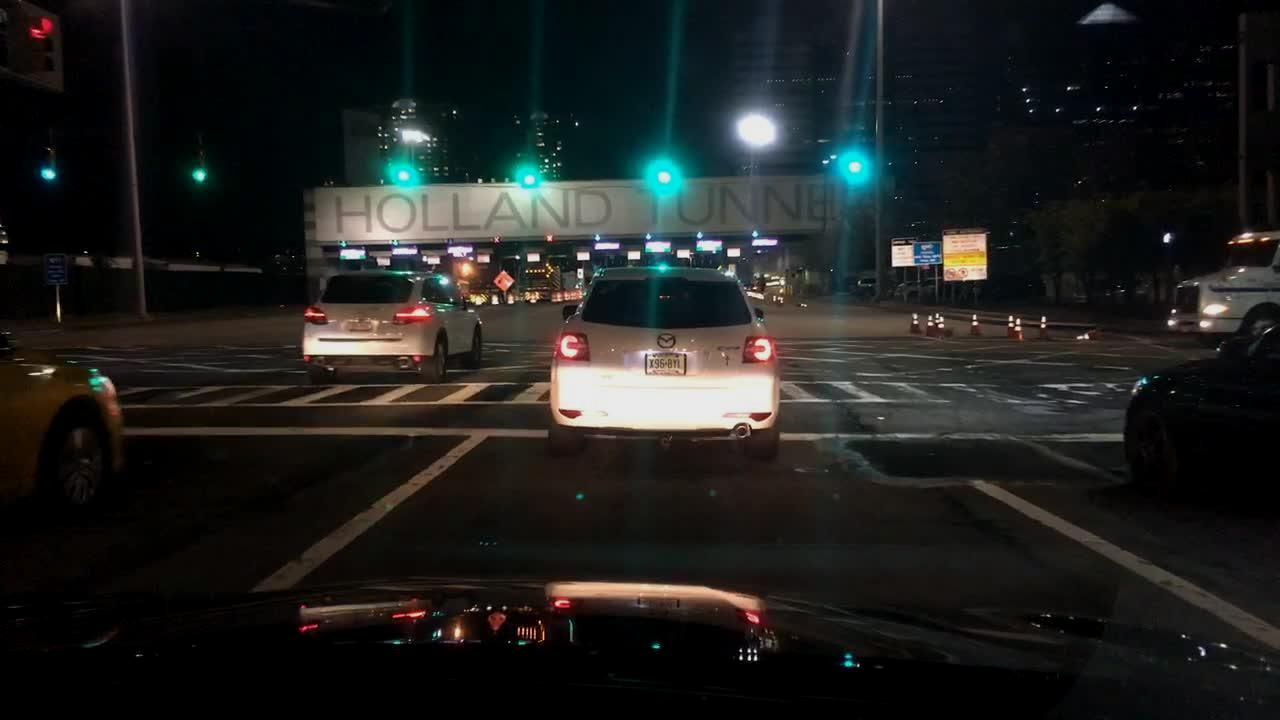Mazda: (649, 329, 684, 350)
